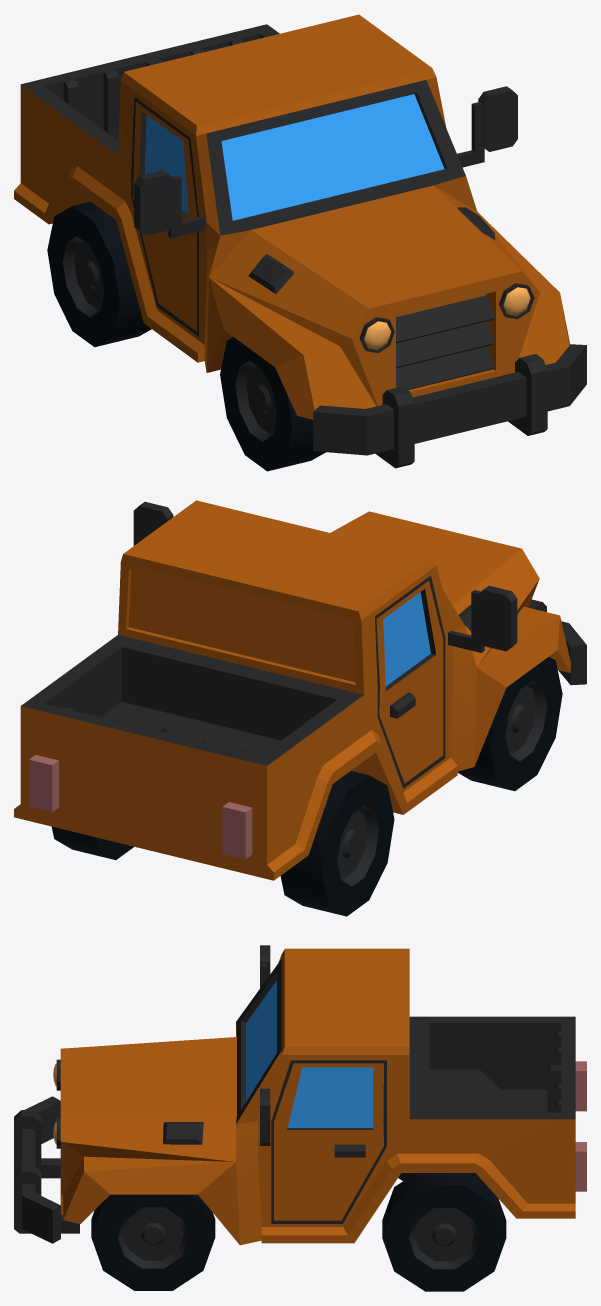
File: Jeep_2.fbx
The picture shows the model from 3 angles, top to bottom: view 1: azimuth 30°, elevation 25°; view 2: azimuth 150°, elevation 25°; view 3: azimuth 270°, elevation 25°; orthographic projection. The views are drawn at different scales.
Visible parts, largest first — view 1: Jeep_2; view 2: Jeep_2; view 3: Jeep_2.
Boxes of the visible parts, x1=… form: Jeep_2: x1=14, y1=14, x2=586, y2=471; Jeep_2: x1=14, y1=500, x2=586, y2=916; Jeep_2: x1=14, y1=945, x2=586, y2=1291.
Size of the model in its own units: 92.04 by 64.59 by 142.
